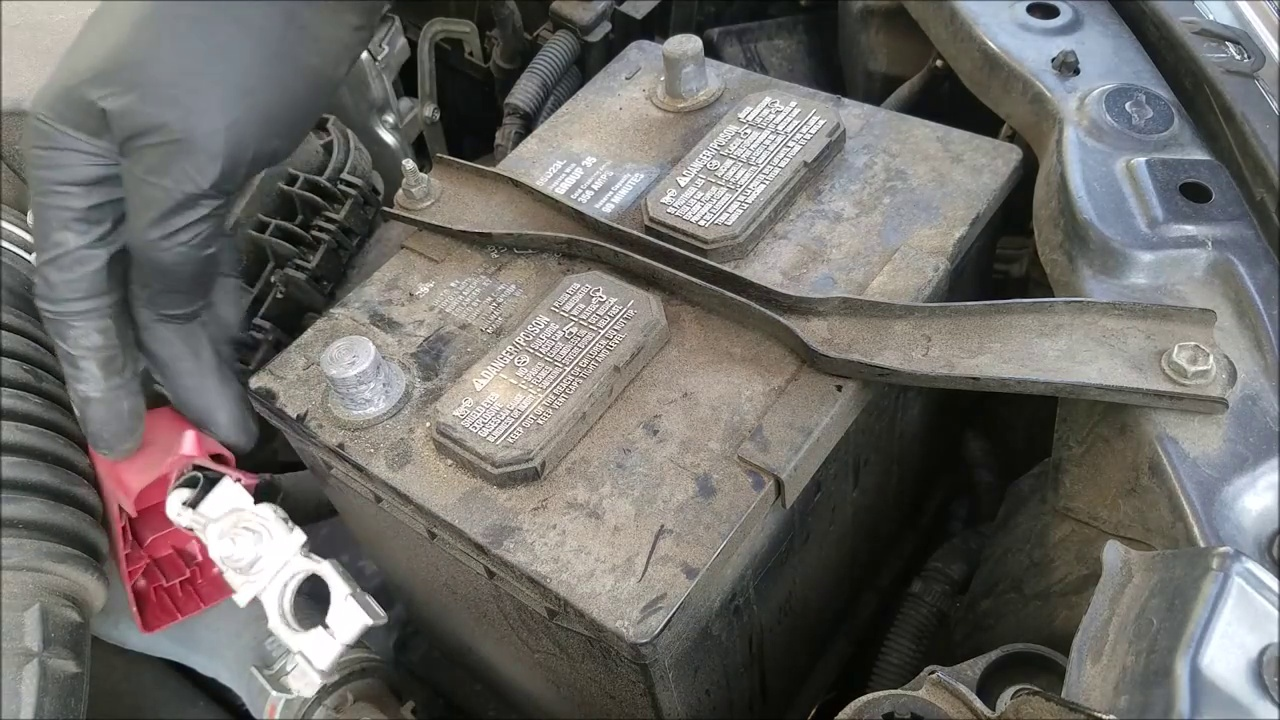battery: (243, 26, 1026, 637)
neg_disconnected: (617, 6, 749, 142)
pos_disconnected: (66, 313, 417, 613)
pos_touched: (26, 202, 428, 567)
